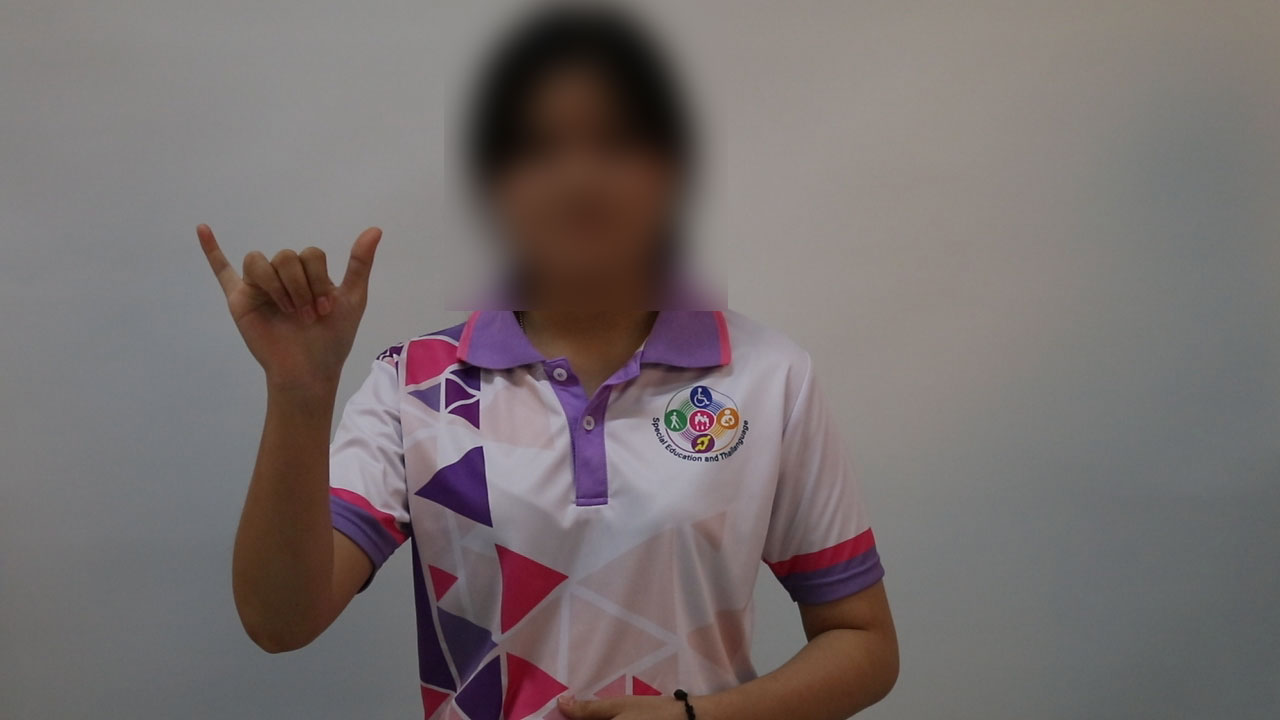yor: (170, 215, 414, 393)
